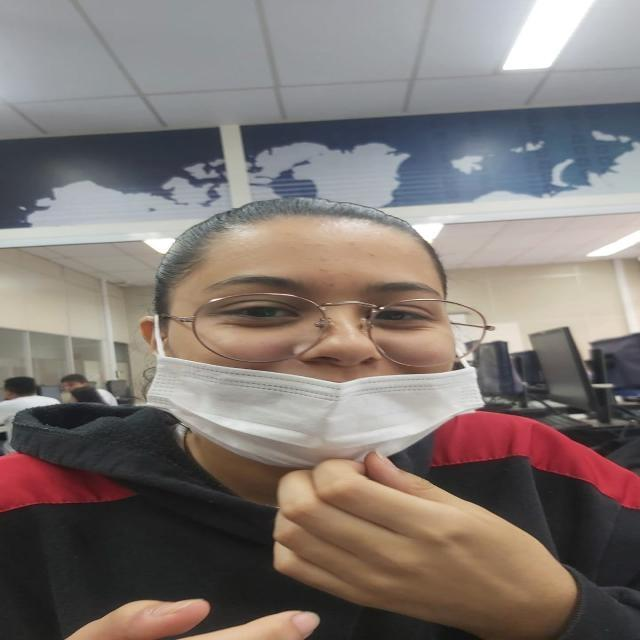hairnet: (166, 204, 447, 457)
